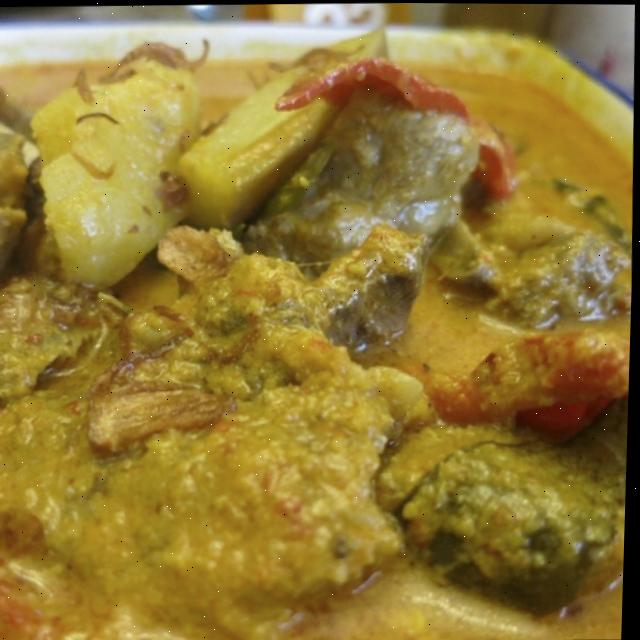熟制海鲜: (0, 21, 621, 640)
